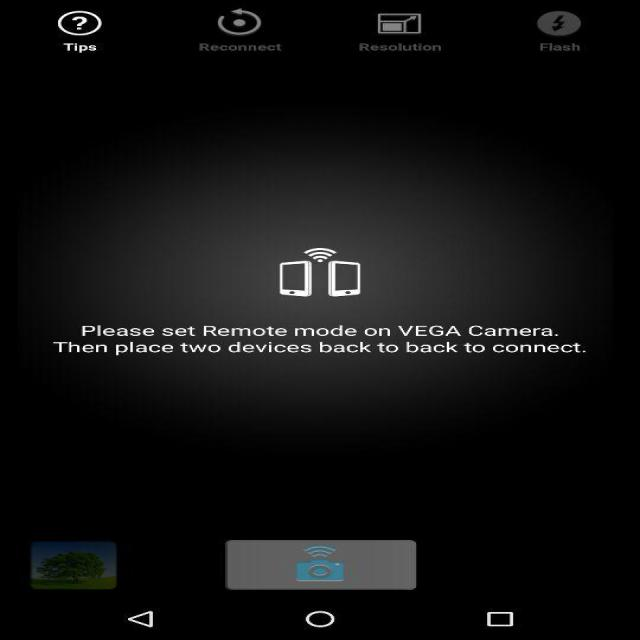text: (73, 315, 640, 395)
